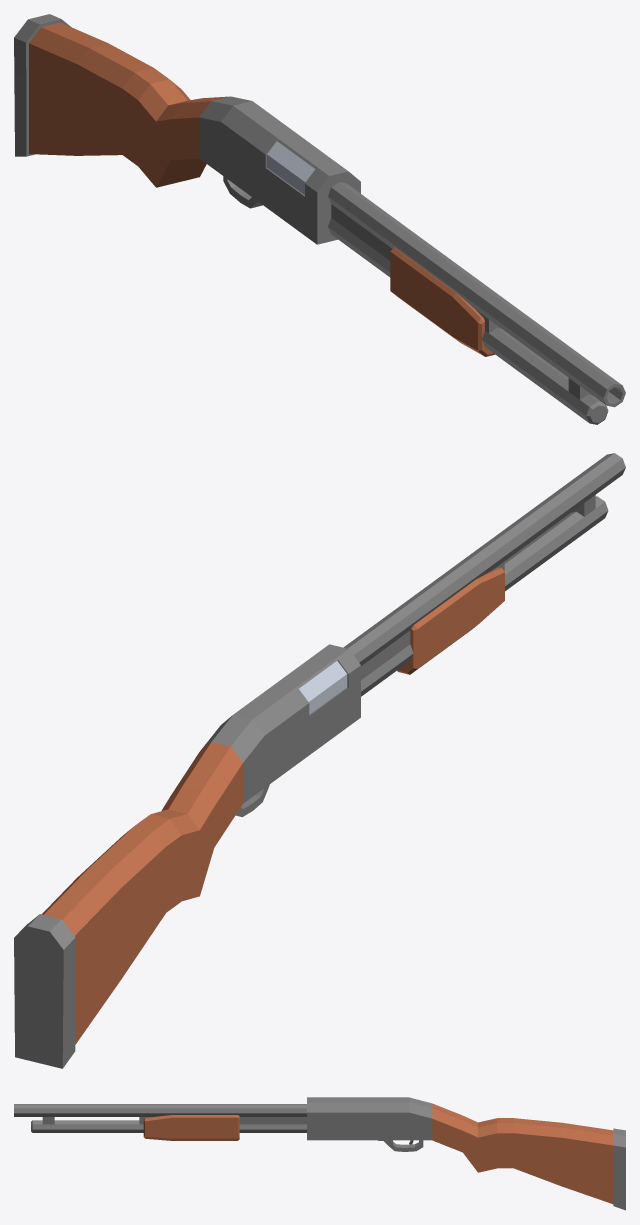
File: shotgun.obj
3 views of the same model, one above another, from view 1: azimuth 30°, elevation 25°; view 2: azimuth 150°, elevation 25°; view 3: azimuth 270°, elevation 25° (orthographic). The views are drawn at different scales.
Parts seen in each view (by area): view 1: obj1, obj2; view 2: obj1, obj2; view 3: obj1, obj2.
Part boxes in pixels (x1,y1,x2,y2): obj1: (14, 14, 625, 424); obj2: (267, 141, 494, 356); obj1: (14, 453, 625, 1068); obj2: (299, 567, 504, 714); obj1: (14, 1097, 625, 1210); obj2: (143, 1115, 239, 1140).
Bounding box in the file's own units: 0.0737 × 0.2785 × 1.48.
